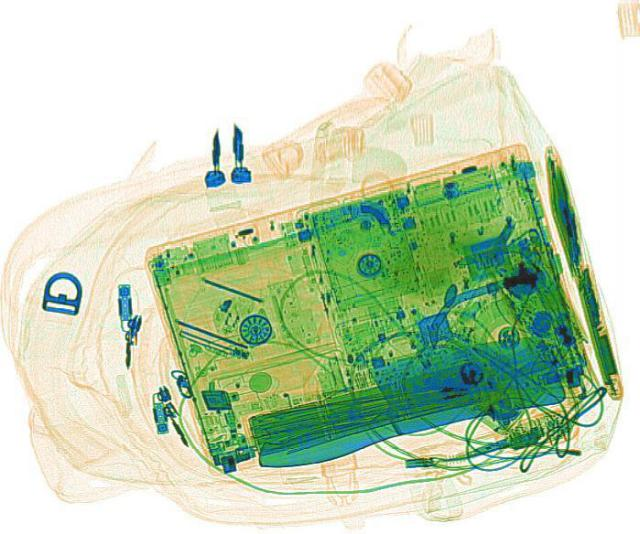Knife: (232, 325, 568, 470)
